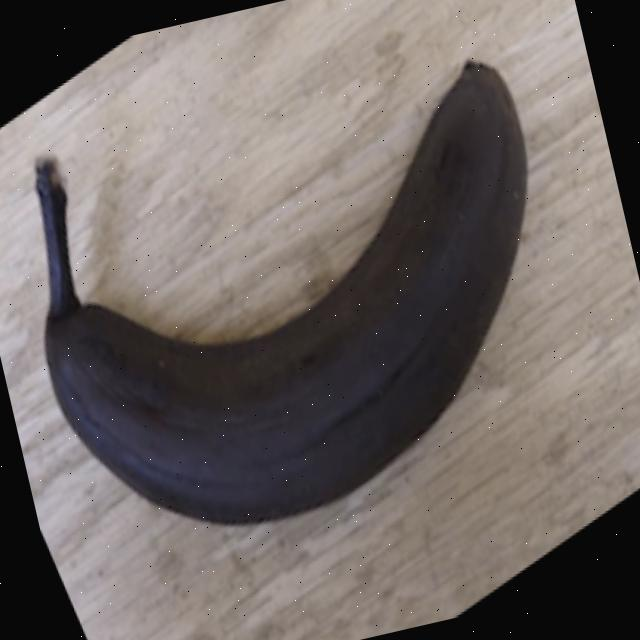Rotten: (0, 15, 621, 602)
